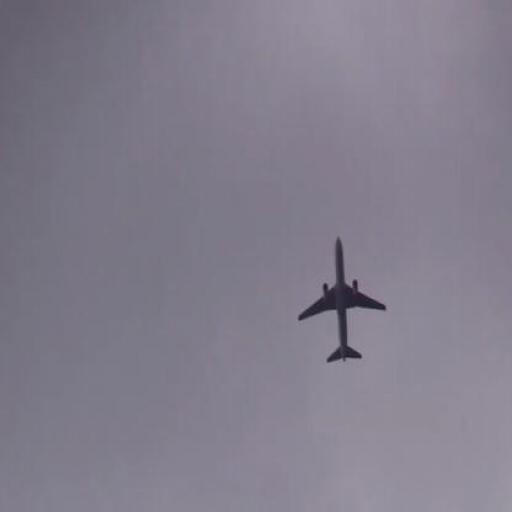aircraft: (298, 235, 387, 363)
